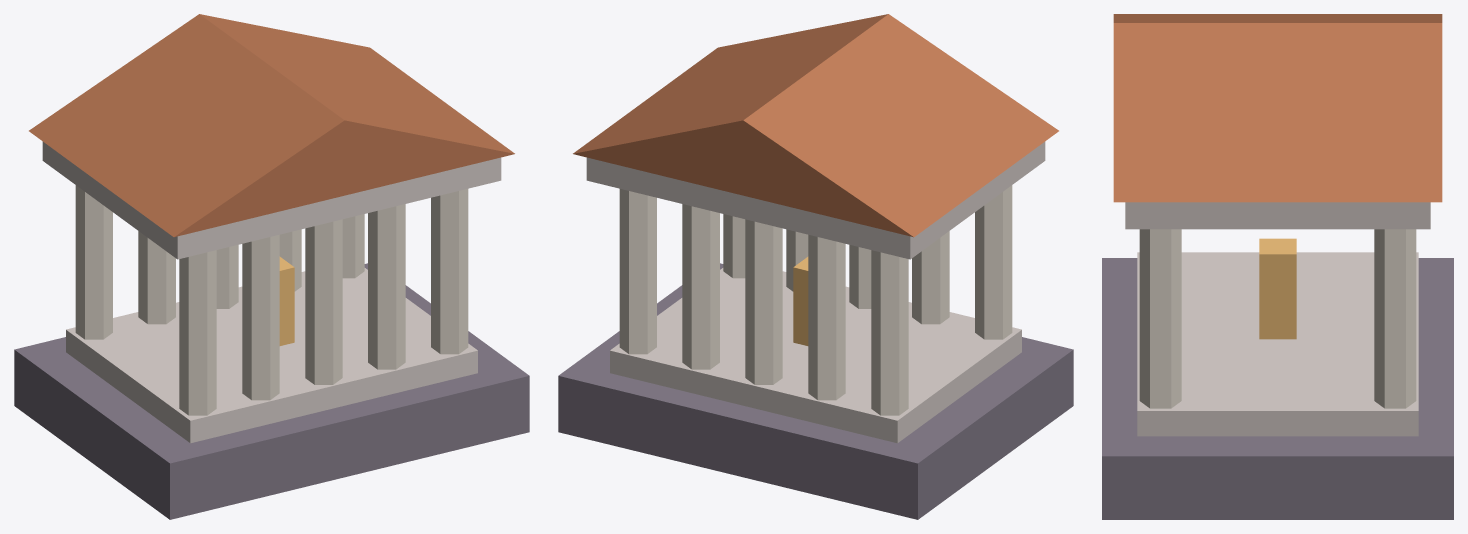
File: temple.glb
3 views of the same model, side by side, from view 1: azimuth 30°, elevation 25°; view 2: azimuth 150°, elevation 25°; view 3: azimuth 270°, elevation 25° (orthographic). The views are drawn at different scales.
Parts seen in each view (by area): view 1: roof, base, step, entablature, column4-1, column1-1, column3-1, column0-1, column2-1, column01, column11, column41 (+3 smaller); view 2: roof, base, step, entablature, column41, column11, column31, column01, column21, column0-1, column1-1, column4-1 (+3 smaller); view 3: roof, base, step, entablature, column4-1, column41, detail_statue.
Boxes of the visible parts, <box> form: roof: <box>29,14,514,237</box>; base: <box>14,263,529,519</box>; step: <box>66,268,477,443</box>; entablature: <box>42,141,501,259</box>; column4-1: <box>431,189,468,354</box>; column1-1: <box>242,234,279,400</box>; column3-1: <box>368,204,405,369</box>; column0-1: <box>179,250,216,415</box>; column2-1: <box>305,219,342,384</box>; column01: <box>75,185,112,339</box>; column11: <box>138,231,175,324</box>; column41: <box>342,214,364,278</box>; roof: <box>573,14,1058,237</box>; base: <box>558,263,1073,519</box>; step: <box>610,268,1021,443</box>; entablature: <box>586,141,1045,259</box>; column41: <box>619,189,656,354</box>; column11: <box>808,234,845,400</box>; column31: <box>682,204,719,369</box>; column01: <box>871,250,908,415</box>; column21: <box>745,219,782,384</box>; column0-1: <box>975,185,1012,339</box>; column1-1: <box>912,231,949,324</box>; column4-1: <box>723,214,745,278</box>; roof: <box>1113,14,1442,202</box>; base: <box>1102,258,1453,519</box>; step: <box>1137,252,1418,436</box>; entablature: <box>1125,202,1430,229</box>; column4-1: <box>1139,229,1181,408</box>; column41: <box>1374,229,1416,408</box>; detail_statue: <box>1259,238,1296,339</box>.
Bounding box in the file's own units: 2 × 1.87 × 1.5.
